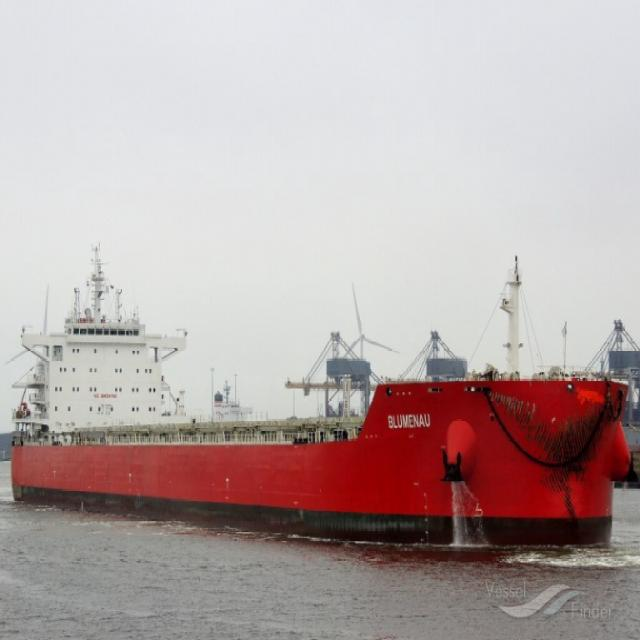OCR: (382, 407, 435, 433)
